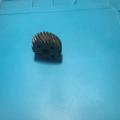gear: (30, 30, 63, 61)
